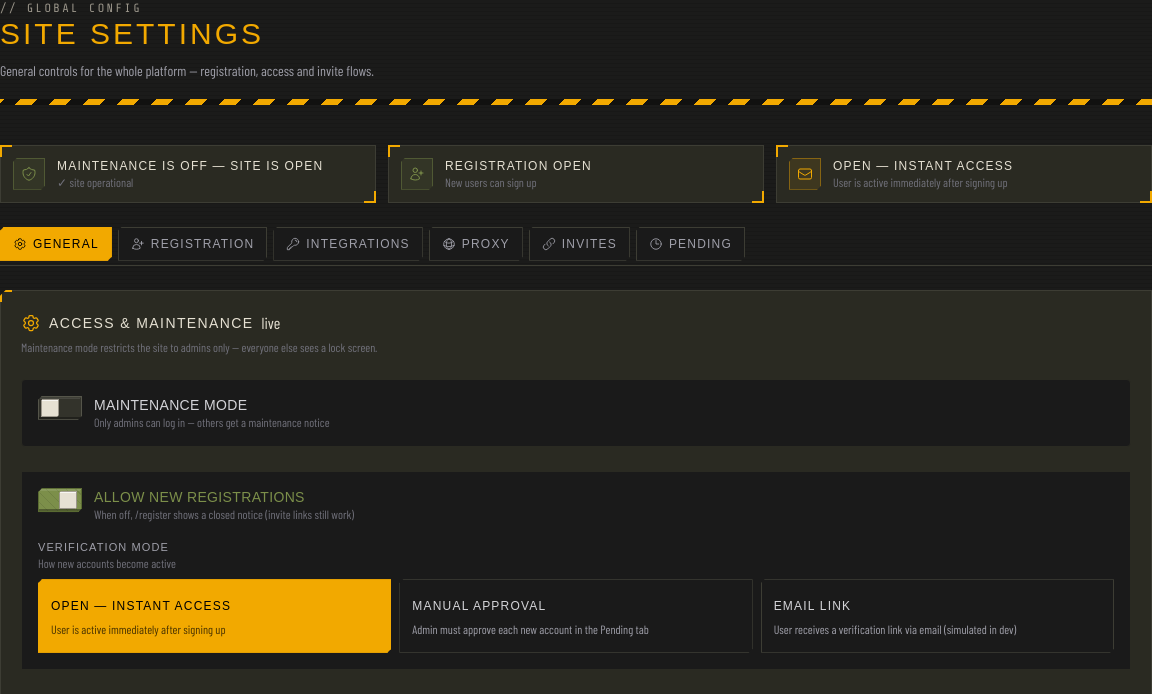
GlobalSettingsForm invites › copies the built invite link for an existing invite
Click the button "Invites".
click(579, 244)  # box [529,227,630,261]
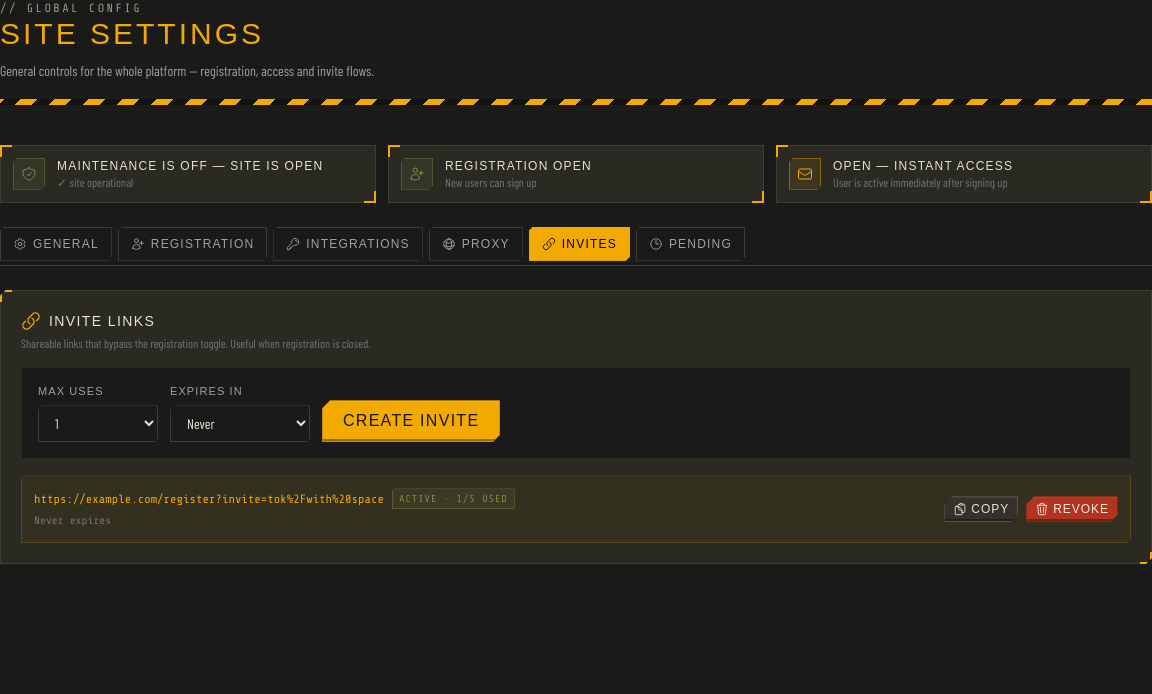
Check: the text "https://example.com/register?invite=tok%2Fwith%20space" is shown, box [34,491,384,507]
Click the button "Copy".
click(981, 509)  # box [944,496,1018,522]
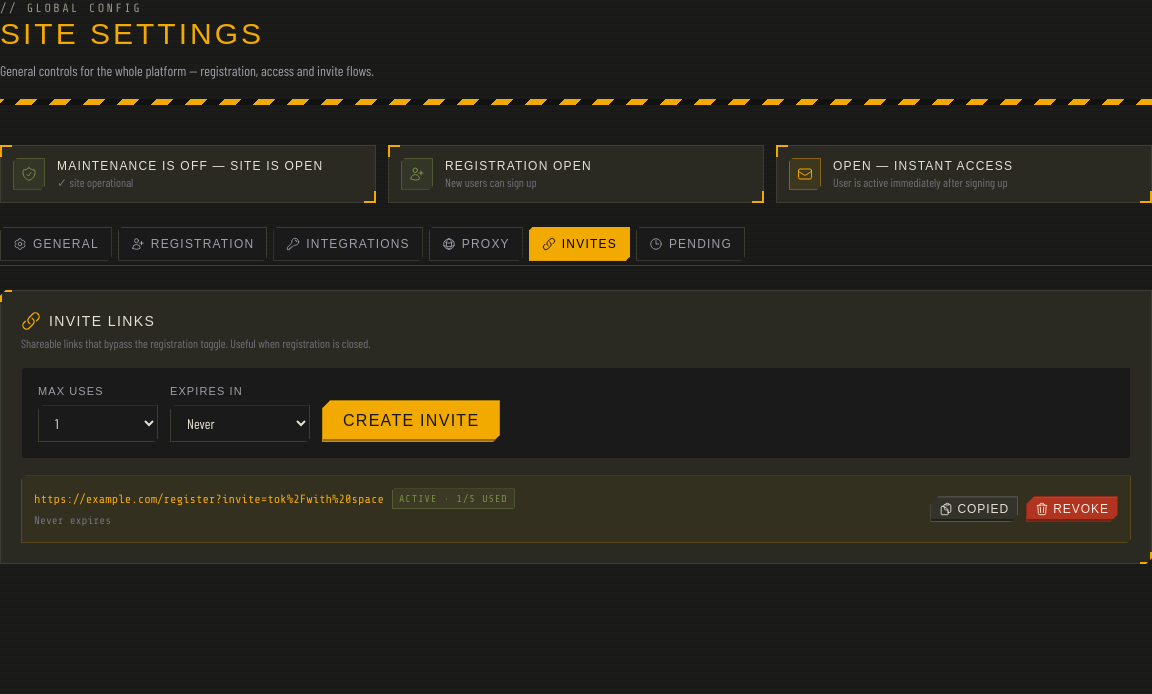
Check: the button "Copied" is shown, box [930,496,1018,522]
